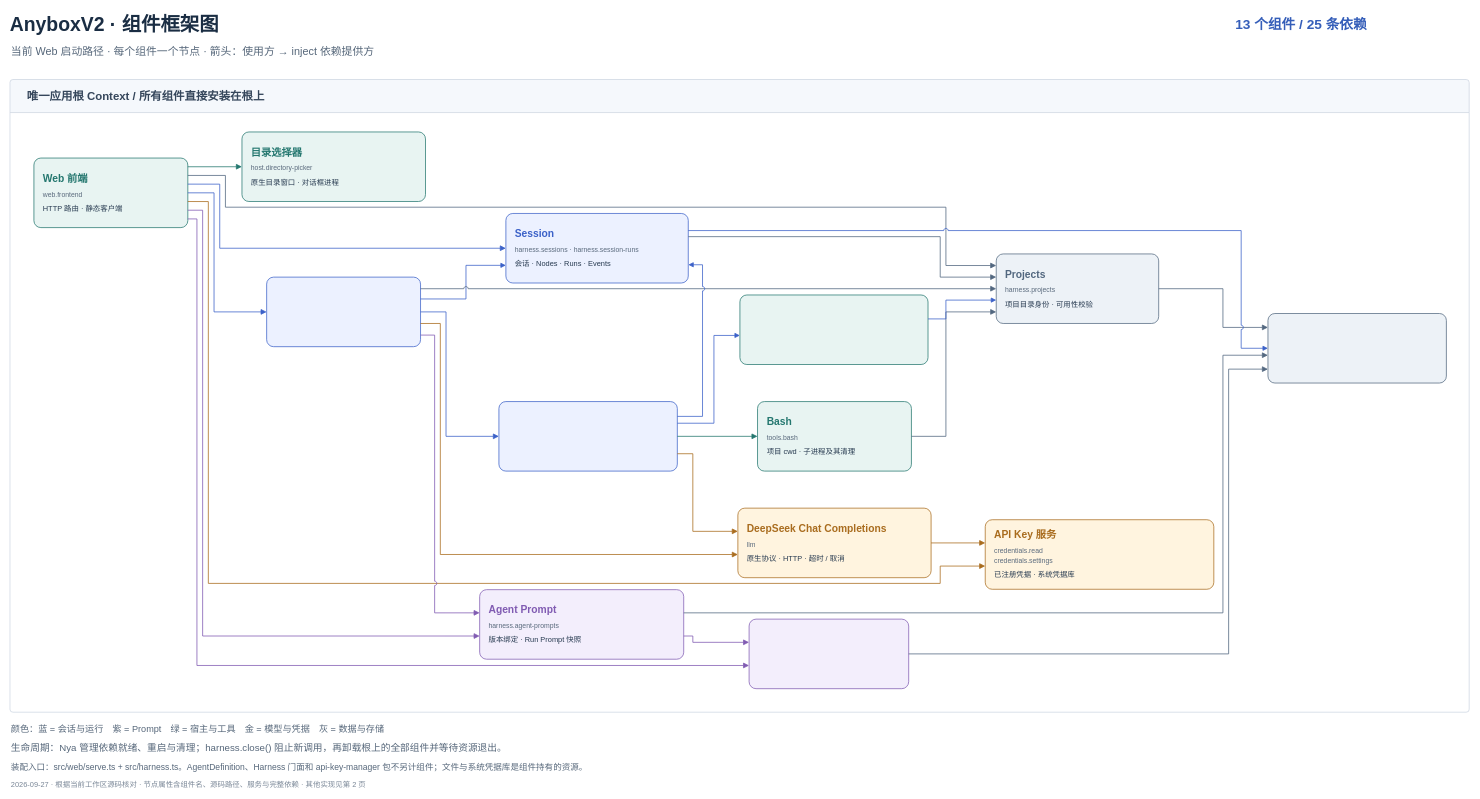
The diagram is 1480 pixels wide and 799 high, and some of its shapes have lost their labels. The shapes that lost their labels are listed below. From the top down, each one's centre as x and y in pixels, then its label:
the point at 343,312: Run harness.runs 准入 · 幂等 · 启动与取消
the point at 833,329: Apply Patch tools.apply-patch 预检 · 串行提交 · 临时资源
the point at 1356,348: Local SQLite local-storage 单连接 · 排他所有权 · 事务队列
the point at 587,436: AgentLoop harness.agent-loop 模型计划 · 工具循环 · 在途资源
the point at 828,654: Prompt harness.prompts 草稿 · 发布版本 · 内容存储
